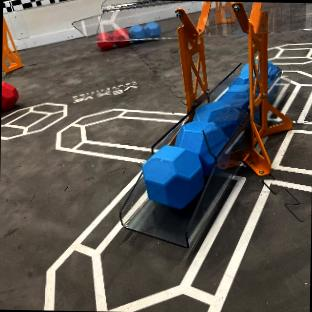V5_BLUE: (143, 146, 202, 207), (178, 121, 228, 176), (194, 99, 248, 134), (217, 77, 248, 114), (129, 21, 160, 39), (268, 61, 278, 80)
V5_RED: (1, 81, 17, 110), (111, 27, 129, 46), (96, 31, 115, 48)
